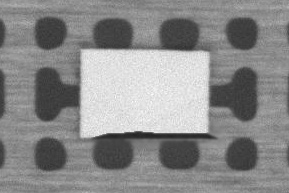DIE_BROKEN: (88, 125, 218, 140)
